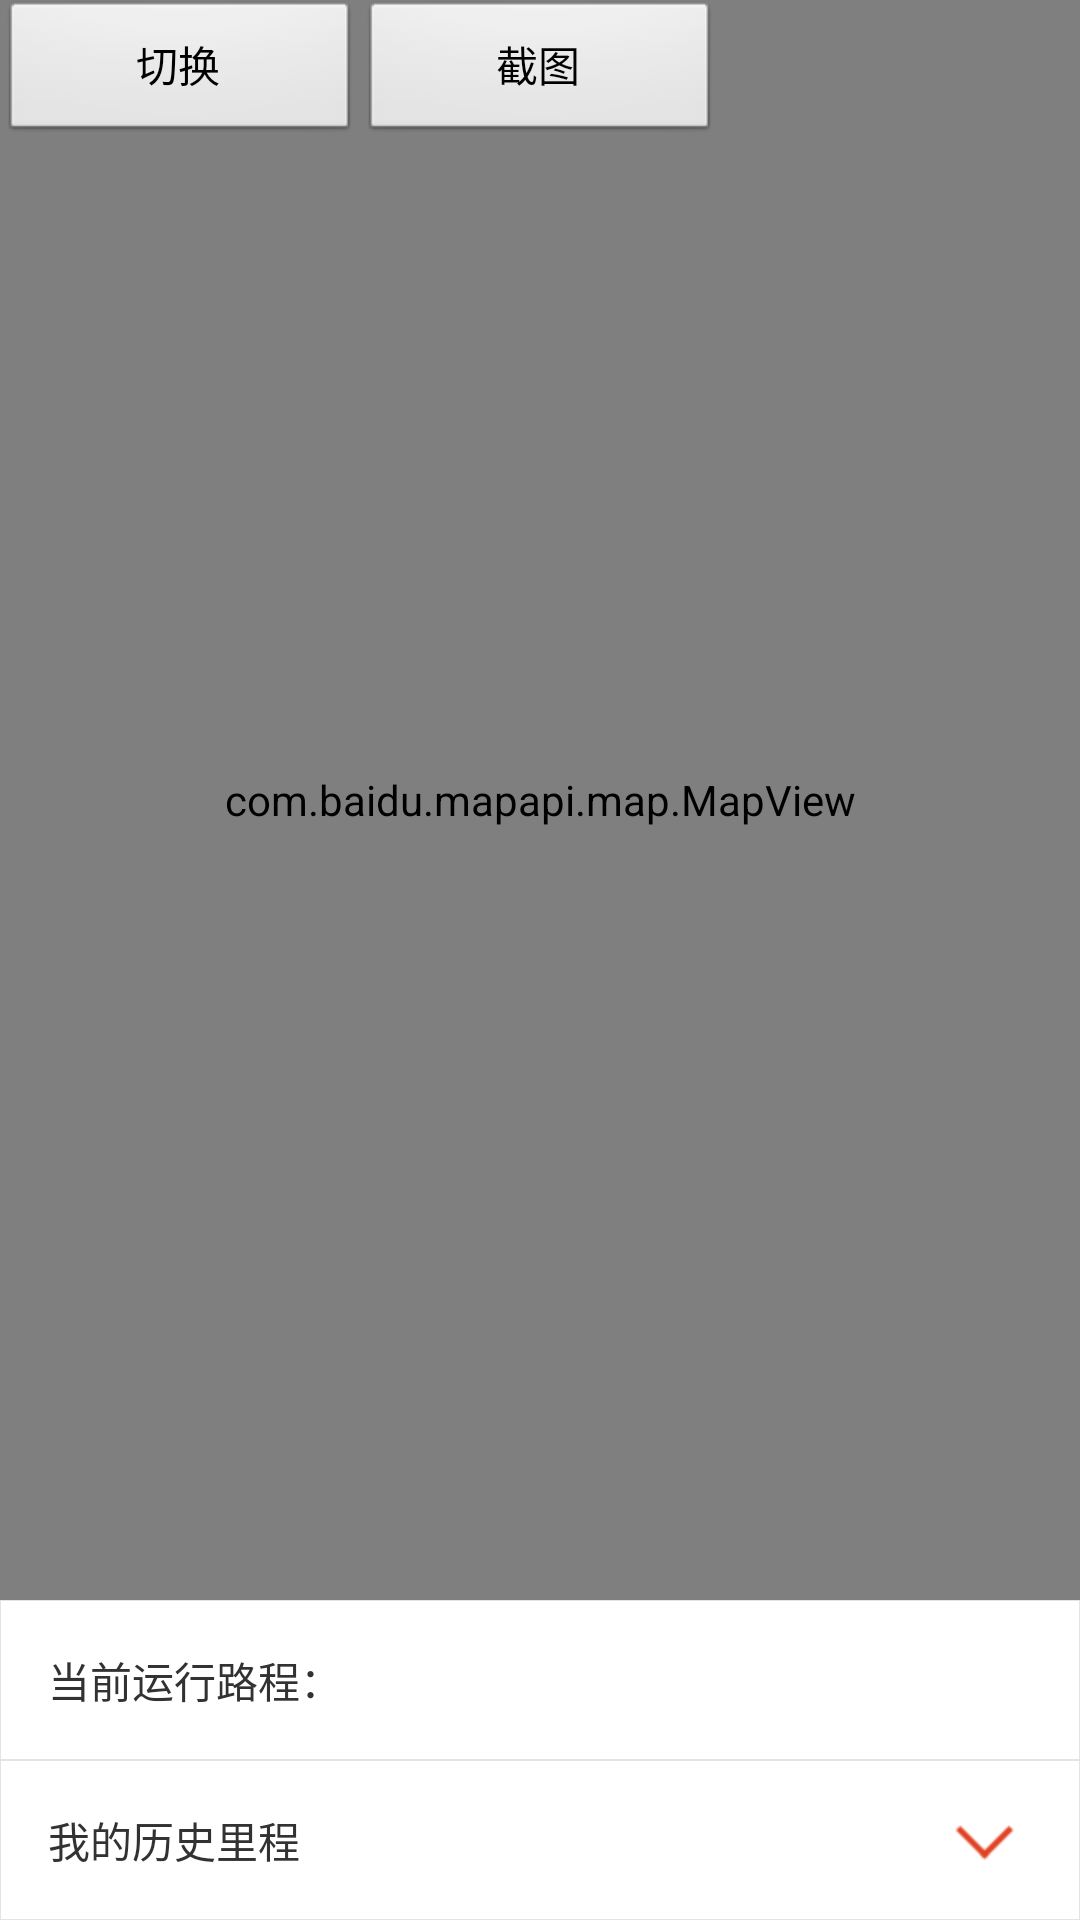

Icon bounding boxes for this 1080px x 1920px phone screenshot, format (x1, y1, x2, y2):
down zhu: (955, 1825, 1014, 1860)
